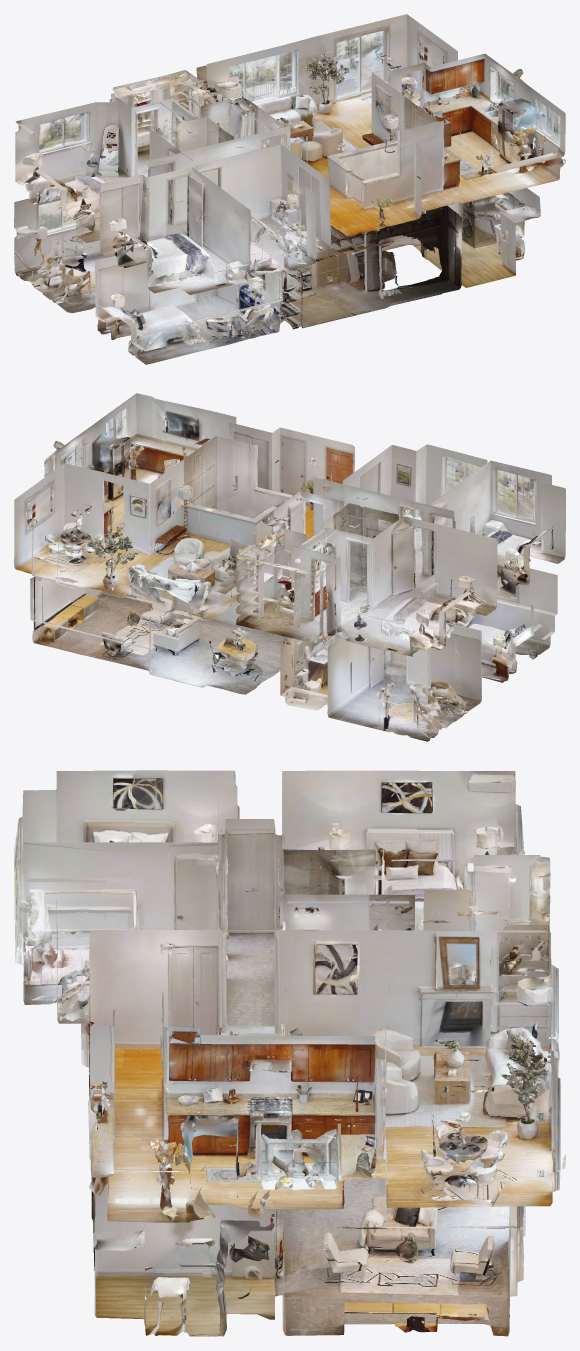
Rendered from house-clean.glb.
3 views of the same model, one above another, from view 1: azimuth 30°, elevation 25°; view 2: azimuth 150°, elevation 25°; view 3: azimuth 270°, elevation 25° (orthographic). The views are drawn at different scales.
Visible parts, largest first — view 1: House_Clean; view 2: House_Clean; view 3: House_Clean.
Boxes of the visible parts, x1,y1,x2,y2 form: House_Clean: [14, 14, 565, 364]; House_Clean: [14, 393, 565, 741]; House_Clean: [14, 770, 565, 1336].
Bounding box in the file's own units: 15.5 × 5.14 × 10.14.
Materials: 8 (8 with a texture image).
